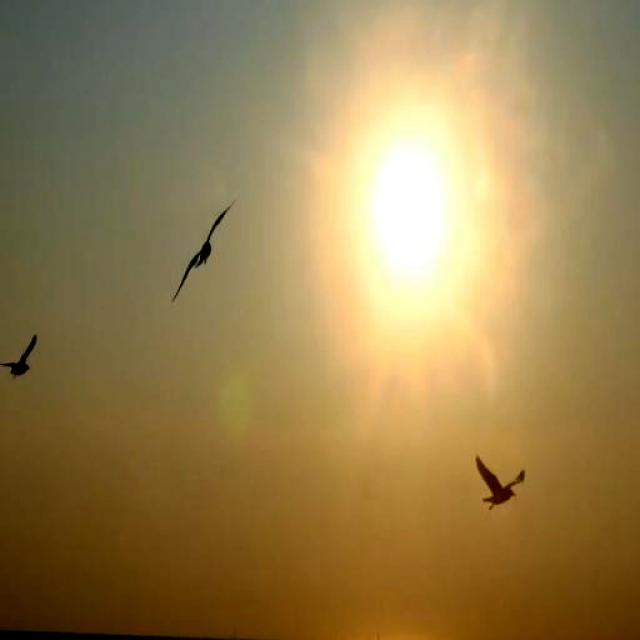airplane: (159, 179, 240, 305), (471, 430, 535, 521), (0, 318, 41, 398)
